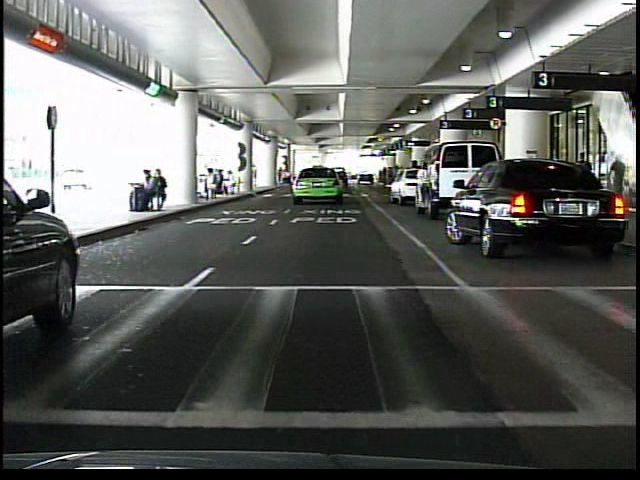person: (571, 148, 595, 211)
